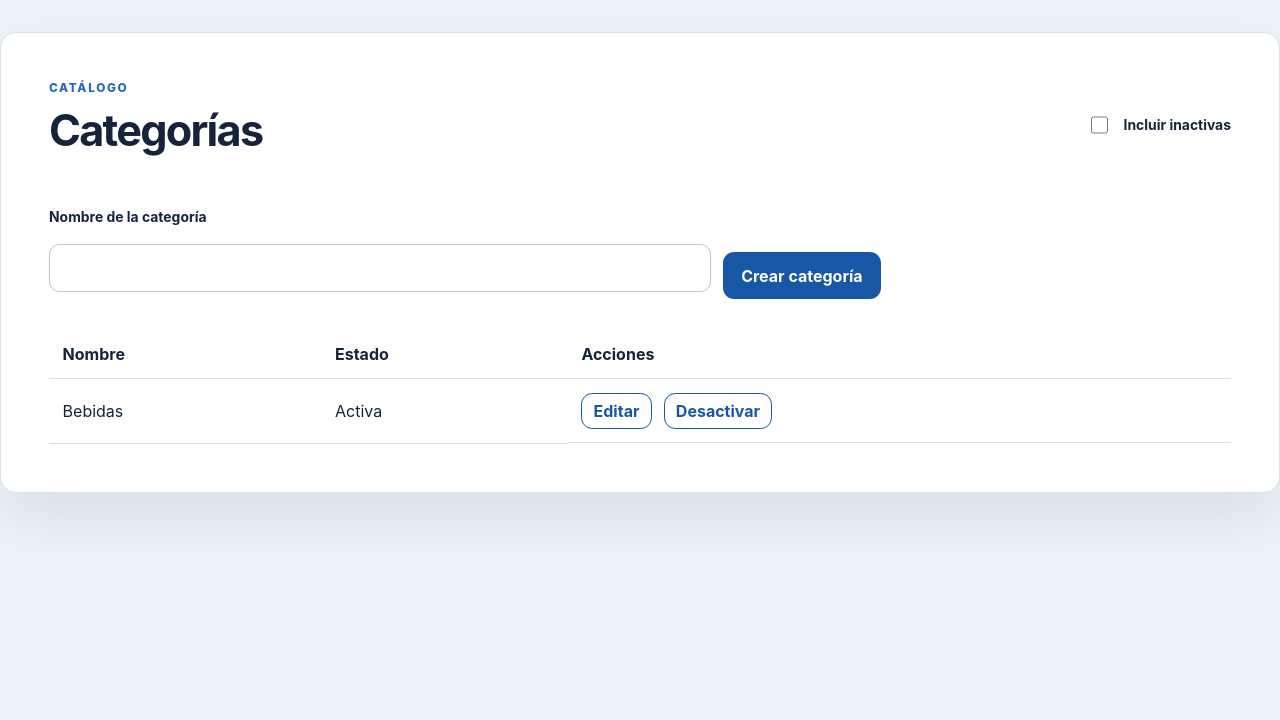
Test: CategoryAdmin › supports cancelling edits and shows safe request failures
expect the text "Bebidas" is shown: met, box [49,378,321,443]
Click the button "Editar". click: (617, 410)
box: [581,392,652,428]
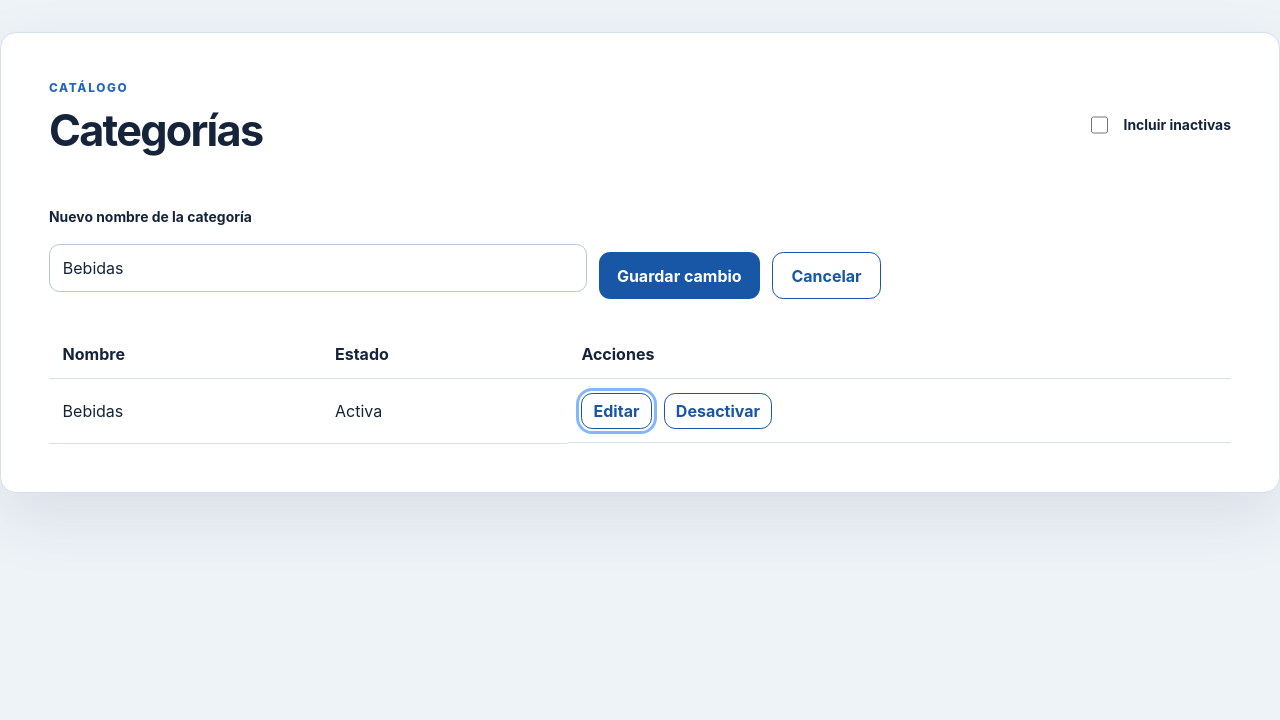
Click the button "Cancelar". click: (826, 276)
box: [772,252,881,299]
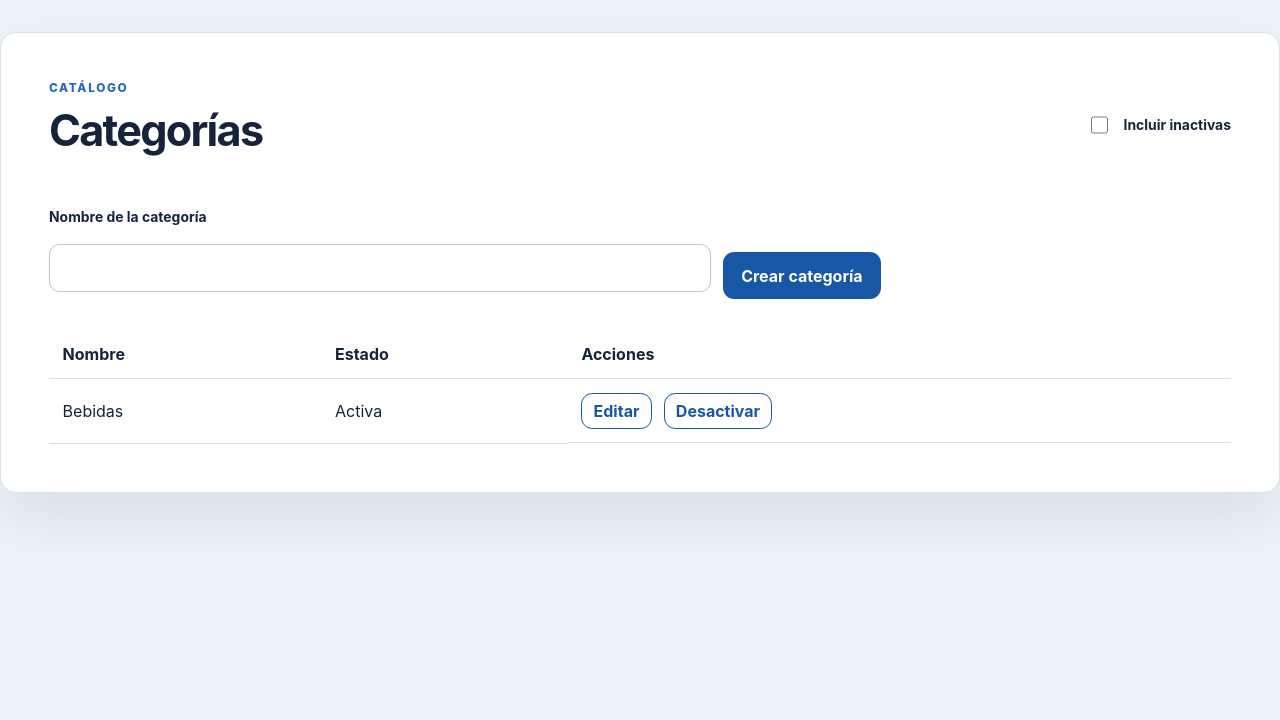
expect the field labelled "Nombre de la categoría" is empty: met
Type "Nueva" into the field labelled "Nombre de la categoría". click: (380, 268)
box: [49,244,711,292]
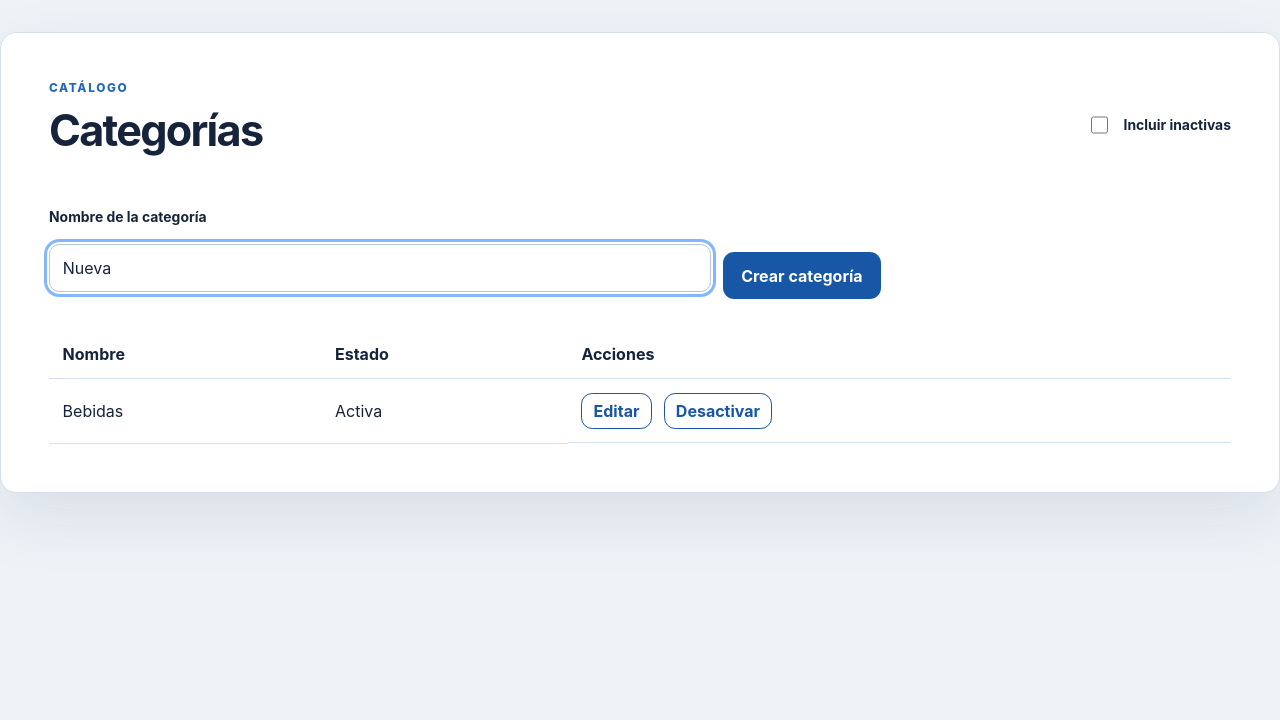
Click the button "Crear categoría". click: (802, 276)
box: [723,252,881,299]
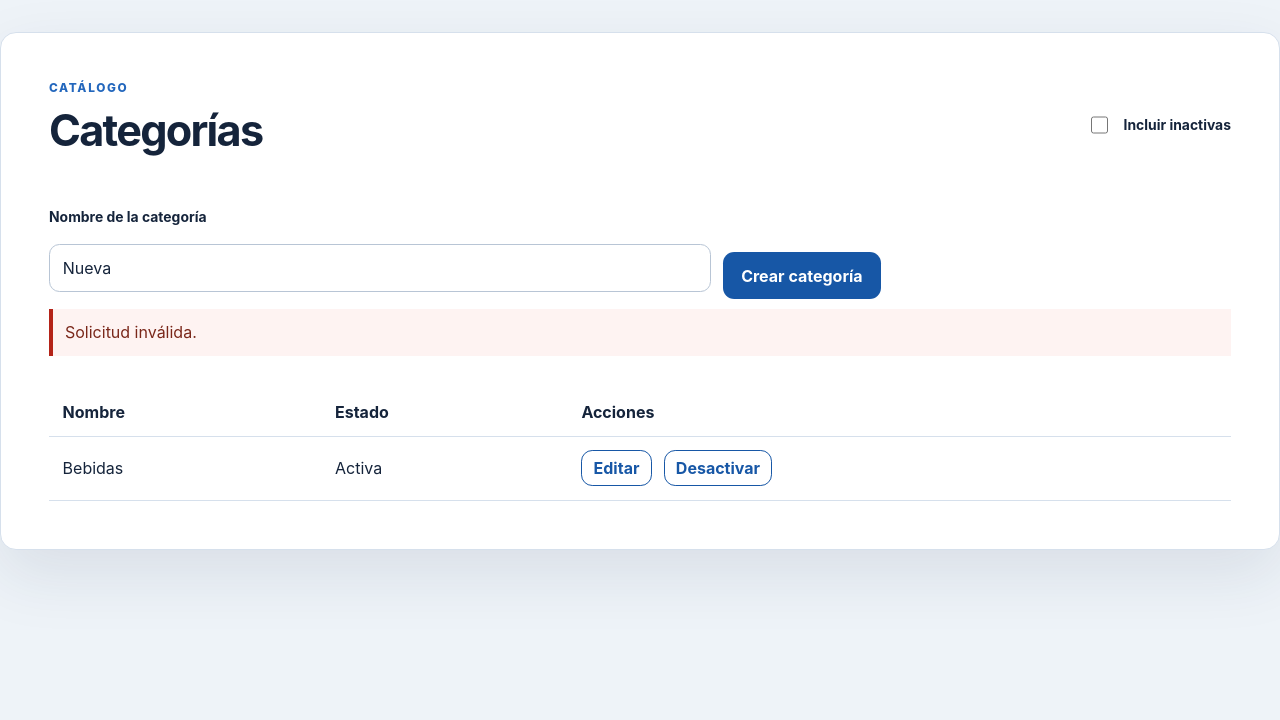
expect the message reads "Solicitud inválida.": met, box [65,322,197,342]
